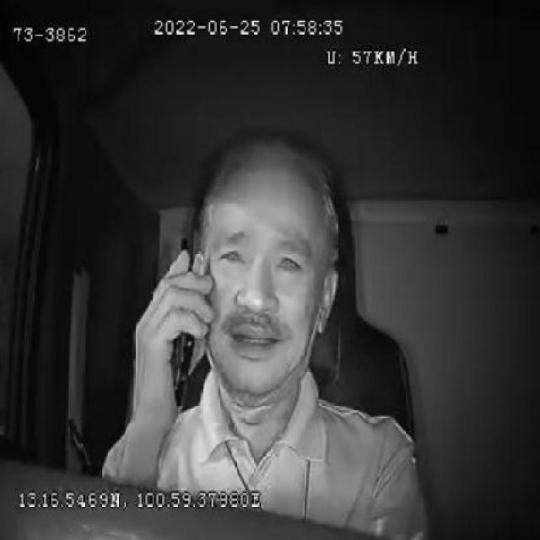phone: (168, 232, 196, 411)
